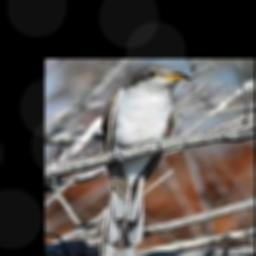Cuckoo: (100, 65, 190, 256)
